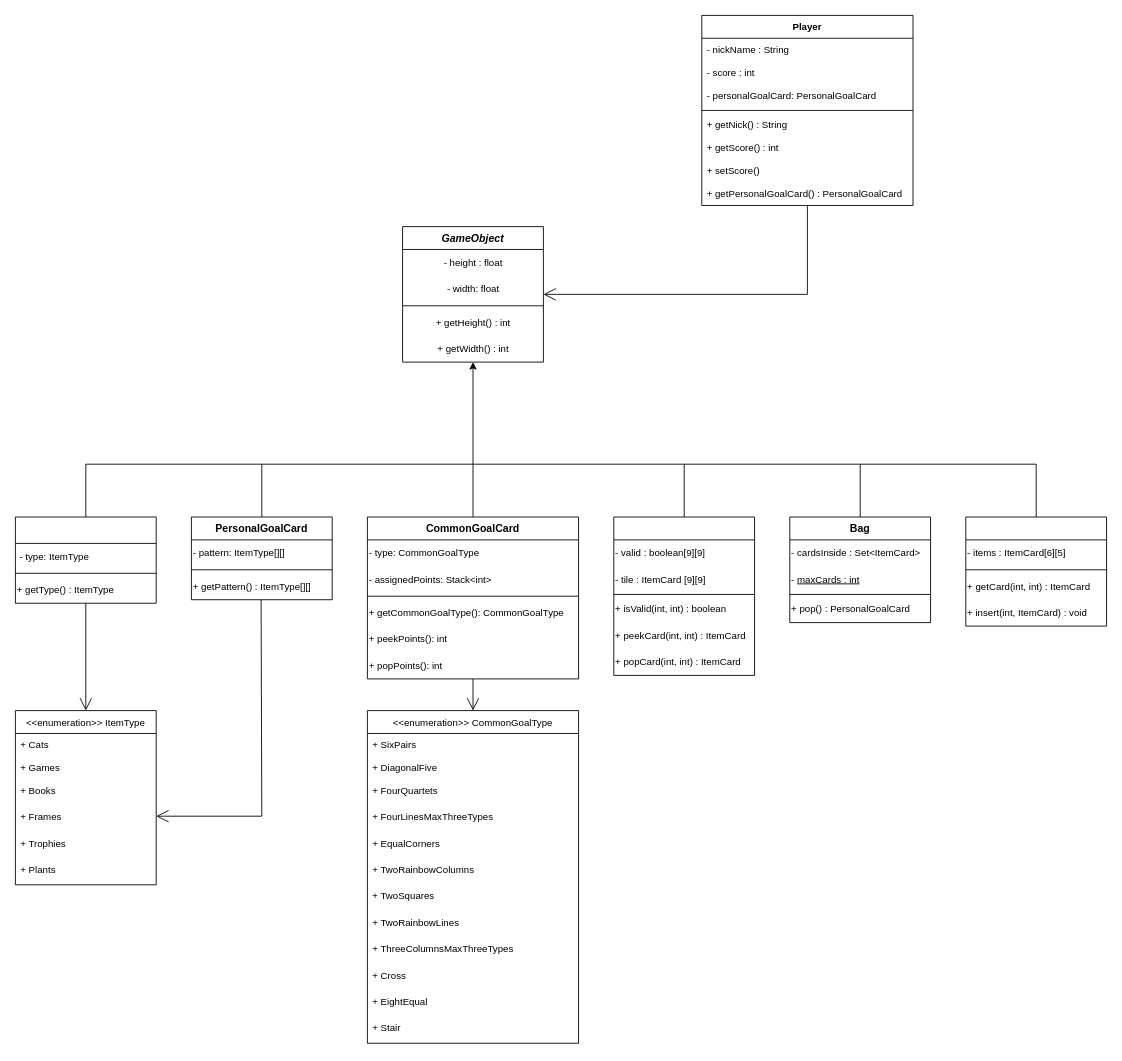
Image size: 1122x1061. Some labels were removed from this diagram. Each missing label, with the box of its shape:
Board: (613, 516, 755, 675)
ItemCard: (15, 516, 156, 603)
Shelf: (965, 516, 1107, 626)
